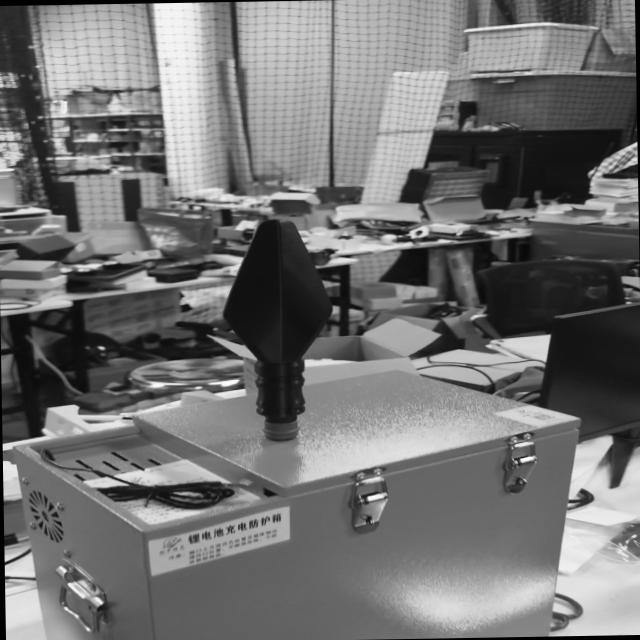base: (262, 418, 299, 441)
